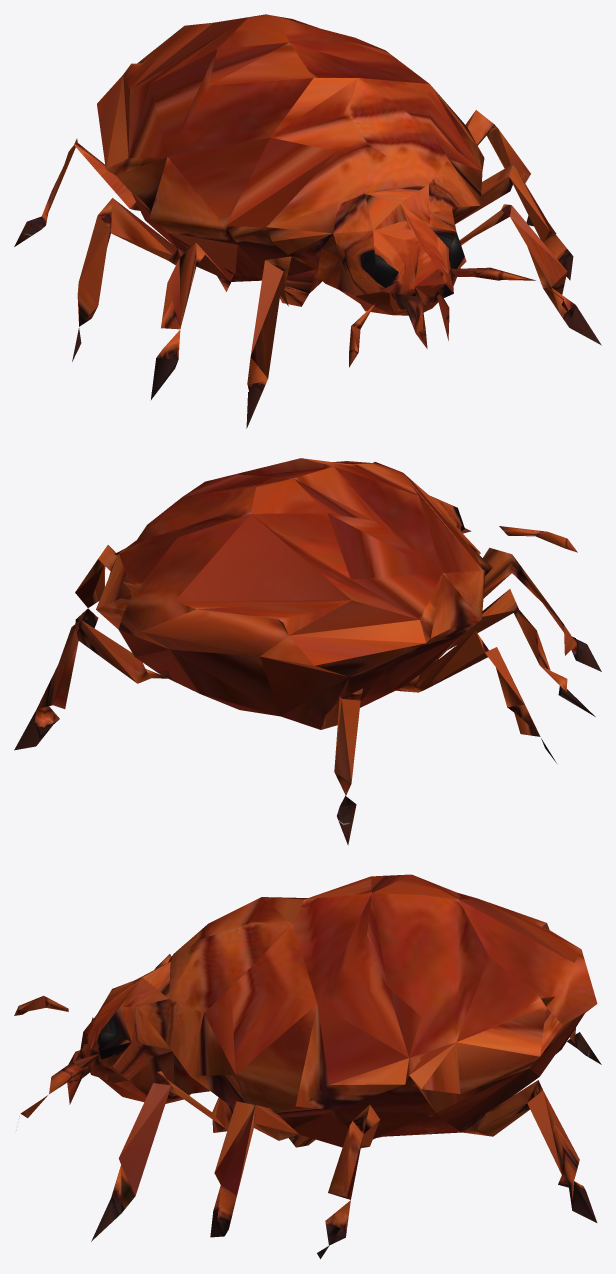
File: bug_bed.glb
3 views of the same model, one above another, from view 1: azimuth 30°, elevation 25°; view 2: azimuth 150°, elevation 25°; view 3: azimuth 270°, elevation 25° (orthographic). The views are drawn at different scales.
Visible parts, largest first — view 1: bug; view 2: bug; view 3: bug.
Boxes of the visible parts, <box> form: bug: <box>14,14,601,428</box>; bug: <box>14,458,601,845</box>; bug: <box>14,874,601,1258</box>.
Bounding box in the file's own units: 0.9307 × 0.4653 × 0.9409.
Materials: 1 (1 with a texture image).
